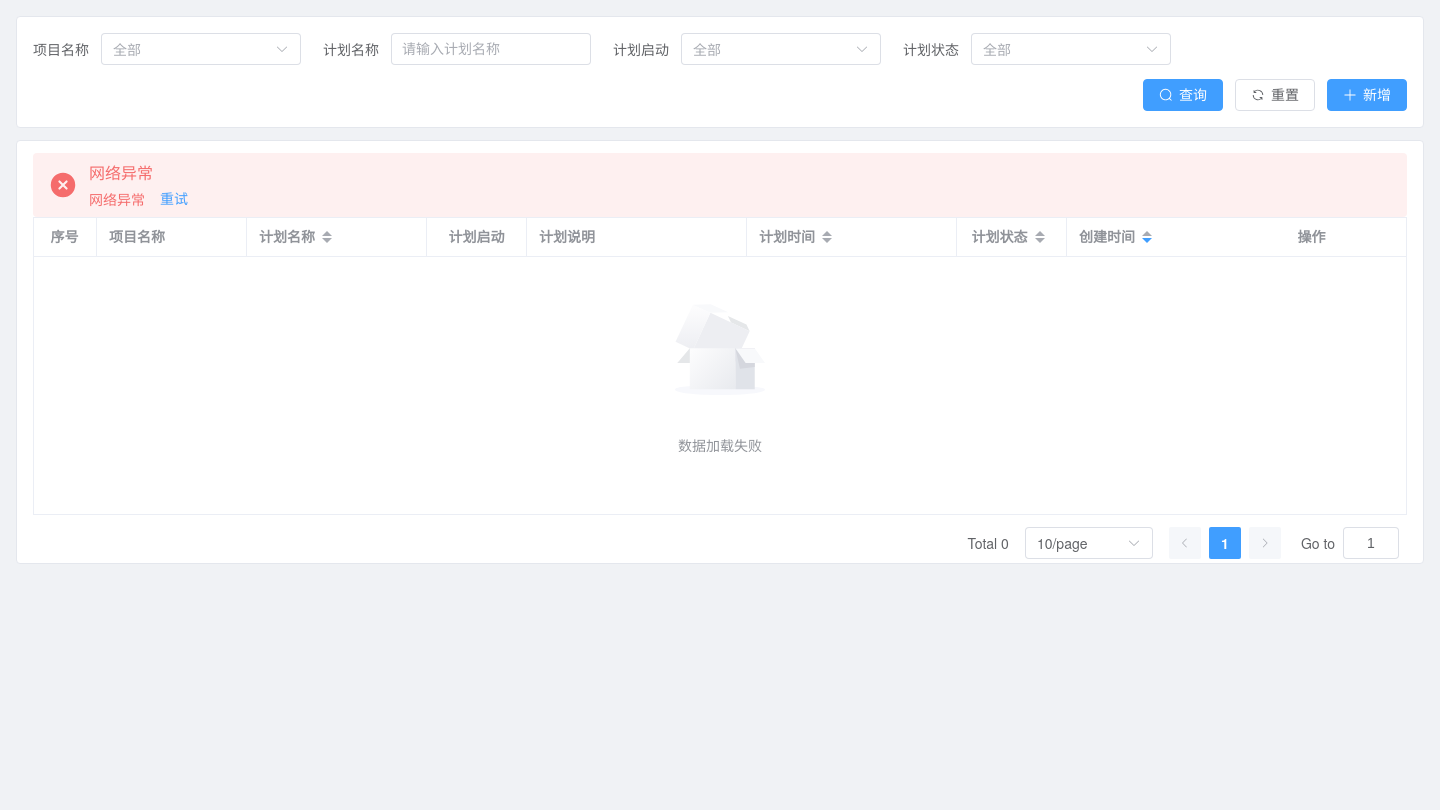
Test: views/JobView.vue › 请求失败时提示错误并可重试；空数据展示空态
Click the button "重试": (174, 199) [157,189,191,209]
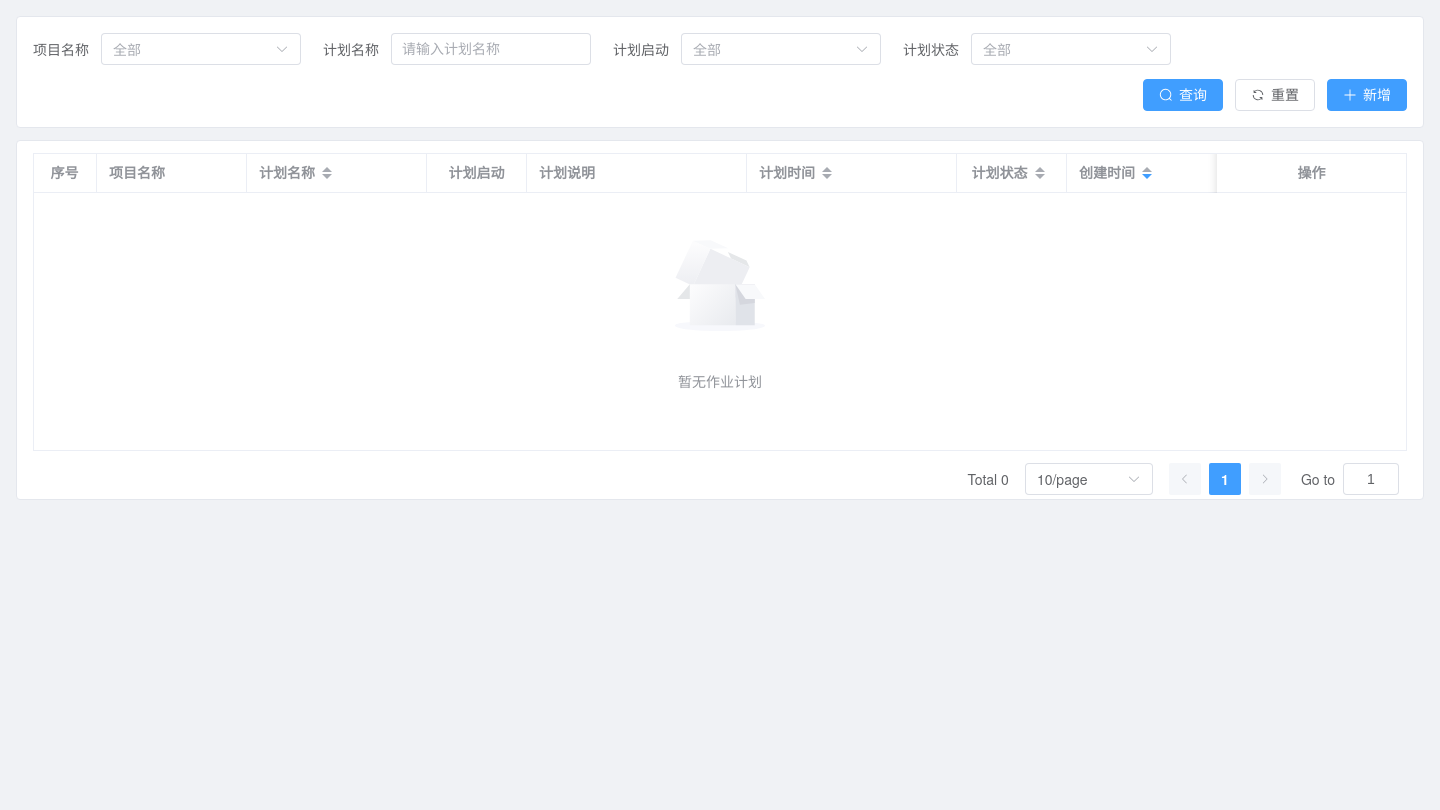
expect the text "网络异常" is gone: met
expect the text "暂无作业计划" is shown: met, box [678,371,762,391]
